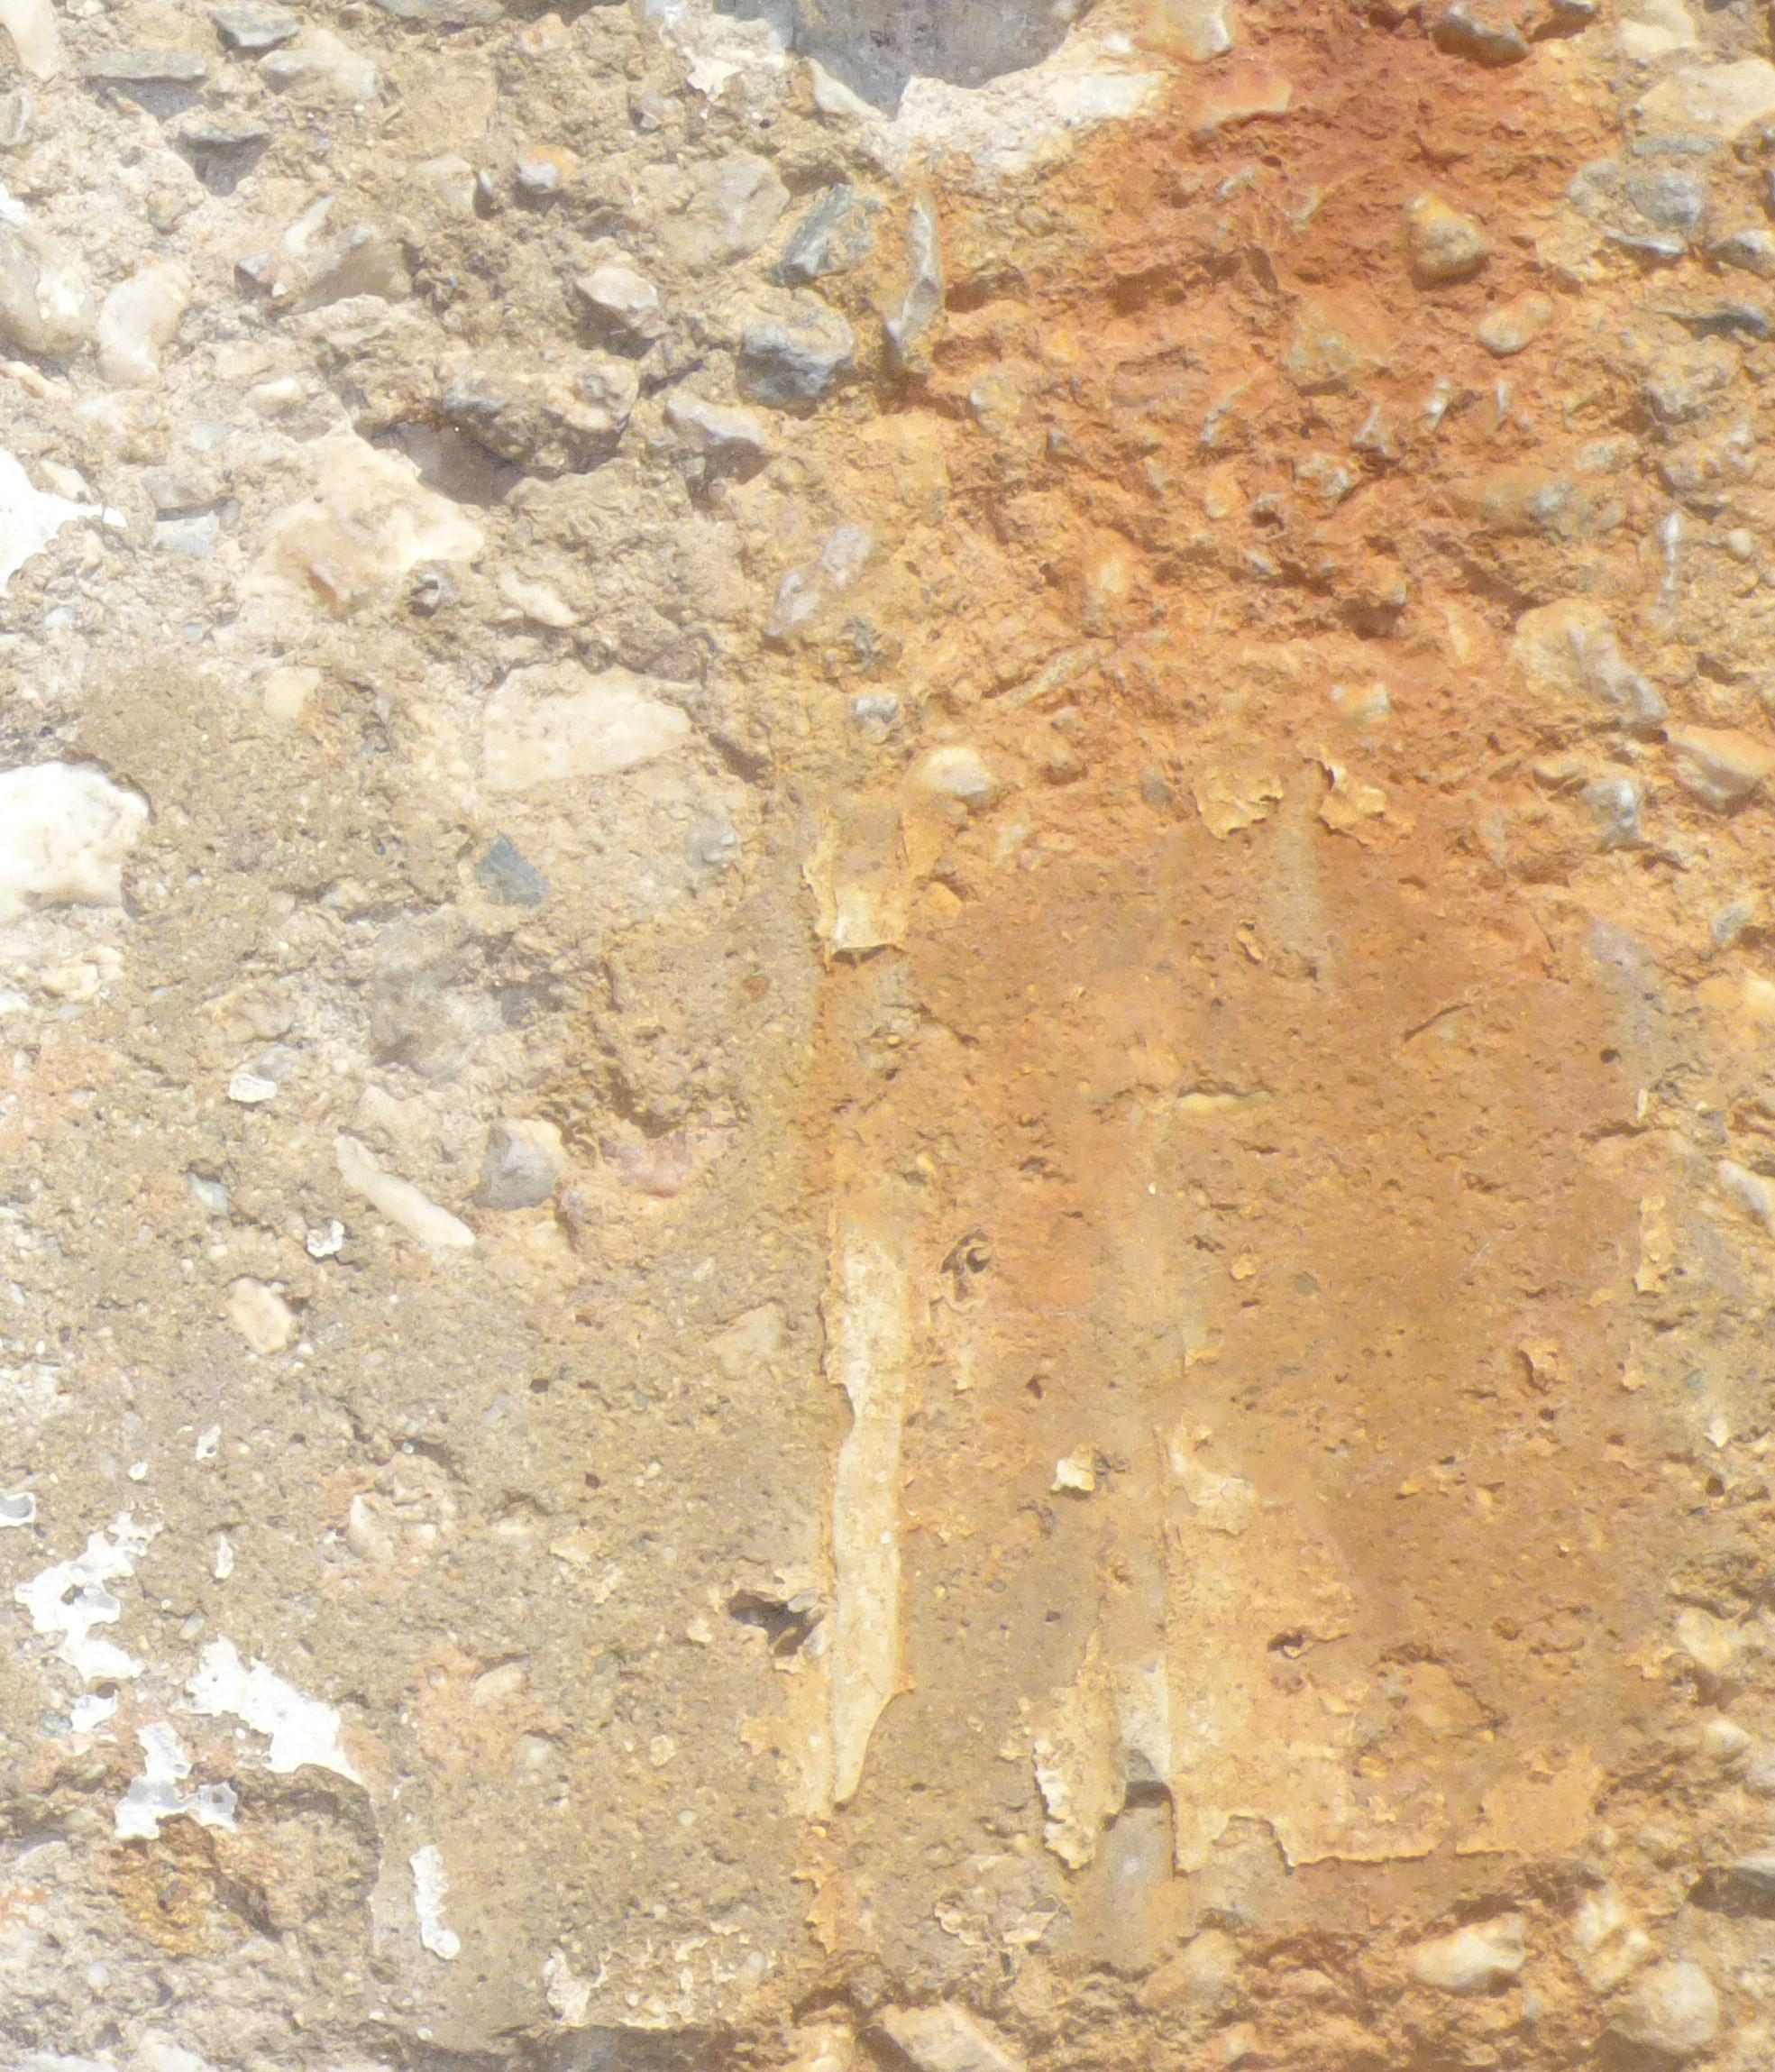Corrosion: (736, 2, 1775, 2072)
